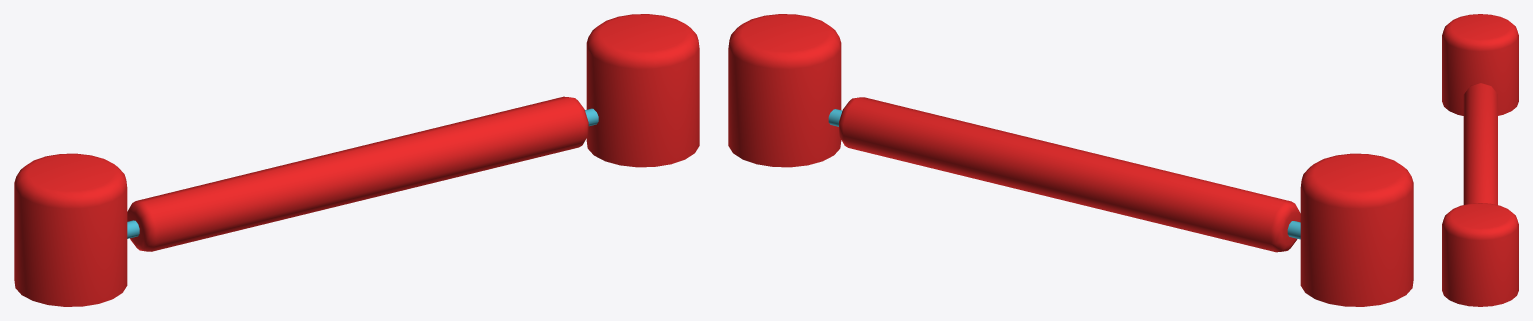
File: m_obstacle.fbx
3 views of the same model, side by side, from view 1: azimuth 30°, elevation 25°; view 2: azimuth 150°, elevation 25°; view 3: azimuth 270°, elevation 25° (orthographic). The views are drawn at different scales.
Visible parts, largest first — view 1: m_obscatle; view 2: m_obscatle; view 3: m_obscatle.
Part boxes in pixels (x1,y1,x2,y2): m_obscatle: (14,14,699,306); m_obscatle: (728,14,1413,306); m_obscatle: (1442,14,1518,306).
Size of the model in its own units: 188 by 29.52 by 27.57.
